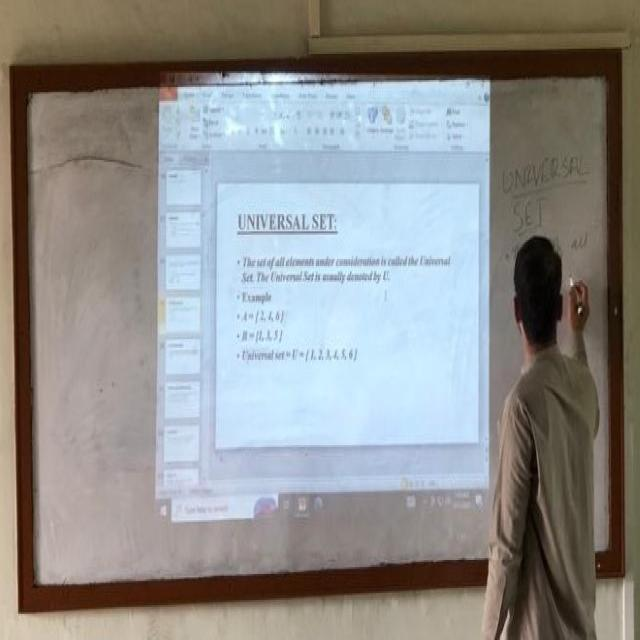Instructor: (496, 227, 601, 640)
Slide: (154, 64, 493, 525)
White-board: (13, 57, 622, 600)
